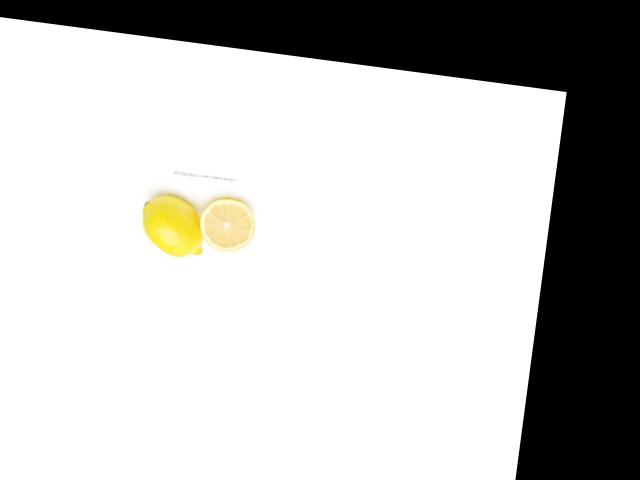lemon: (131, 189, 210, 260)
